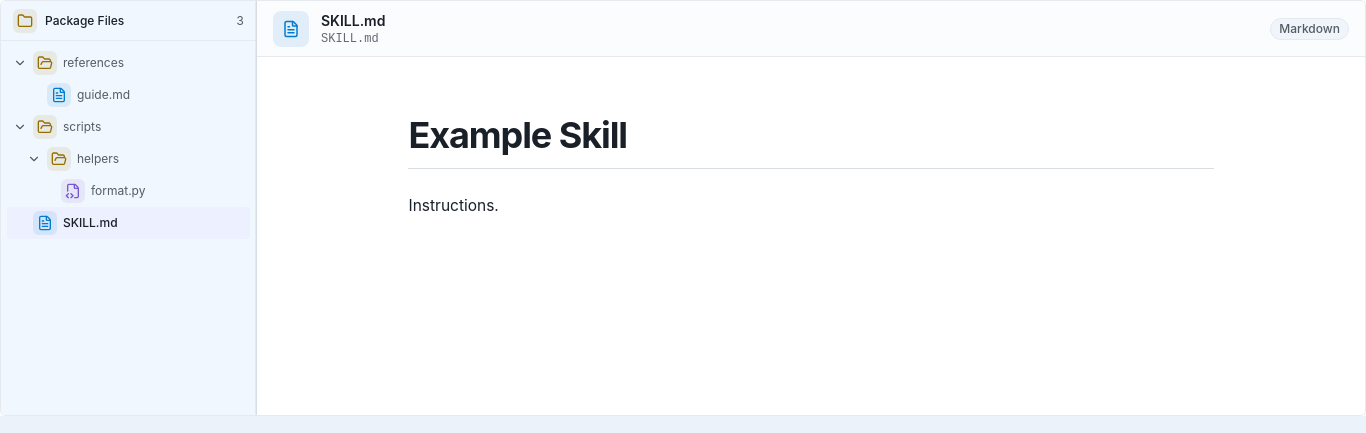
<SkillFileBrowser> › renders nested files as an explorer and loads file content in the detail pane
Expected: the element named "Package Files" is shown, [7,47,250,239]
Expected: the button "scripts" is shown, [7,111,250,143]
Click the button "format.py": {"x": 128, "y": 191} [7,175,250,207]
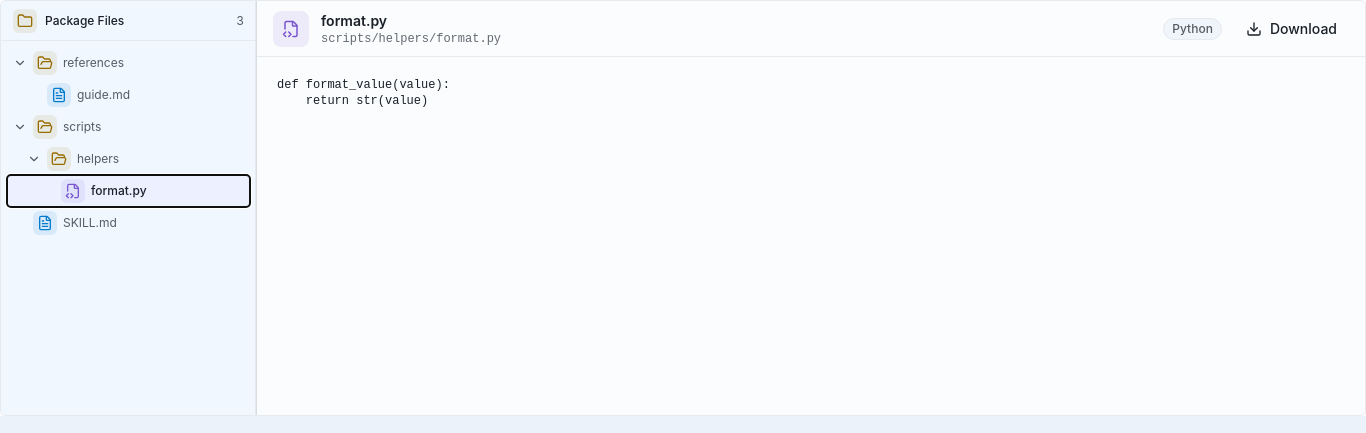
Expected: the text "3" is shown, [236,12,244,28]
Expected: the text "def format_value(value): return str(value)" is shown, [277,78,450,108]
